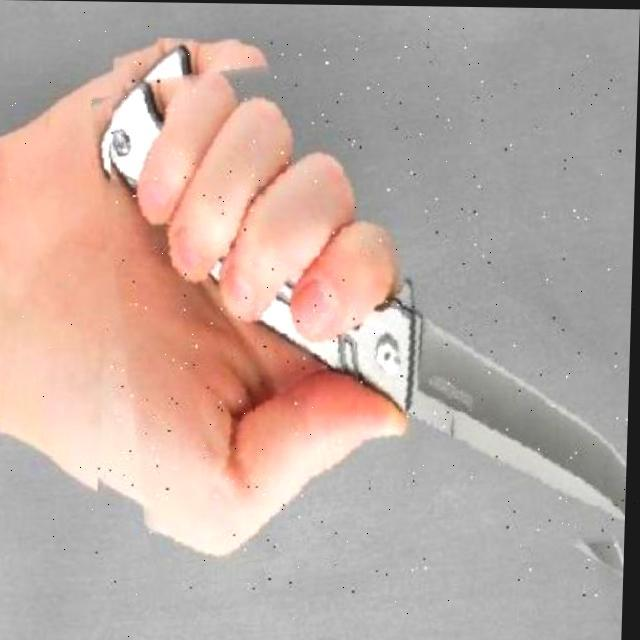knife: (98, 38, 639, 595)
